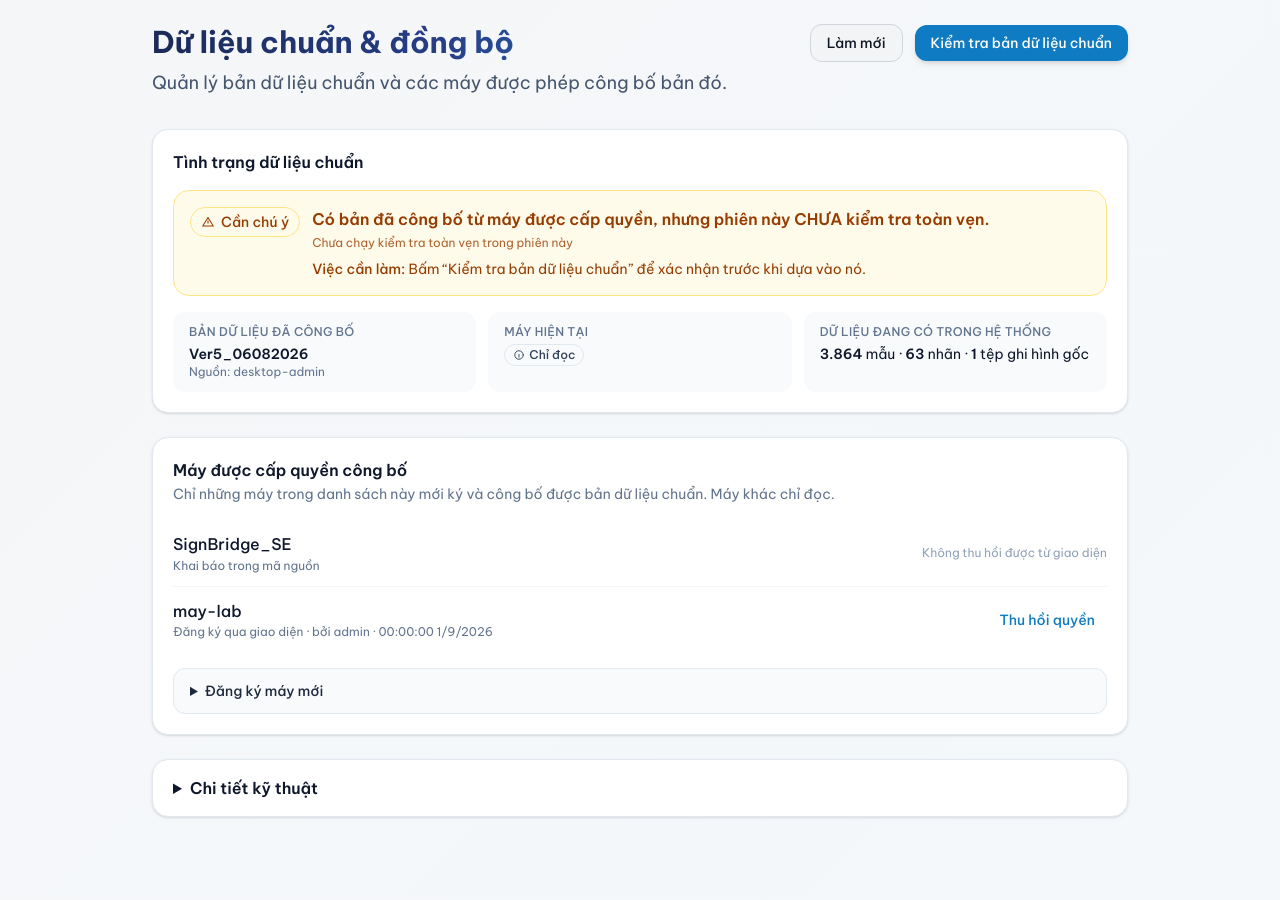
Test: SotAdminPage › bấm kiểm tra → đạt → kết luận đổi và có thời điểm kiểm tra
This screenshot has width=1280, height=900.
Expected: the message with test id "sot-conclusion" is shown, [173,190,1107,296]
Click the button "Kiểm tra bản dữ liệu chuẩn": click(1021, 43) [914,25,1128,61]
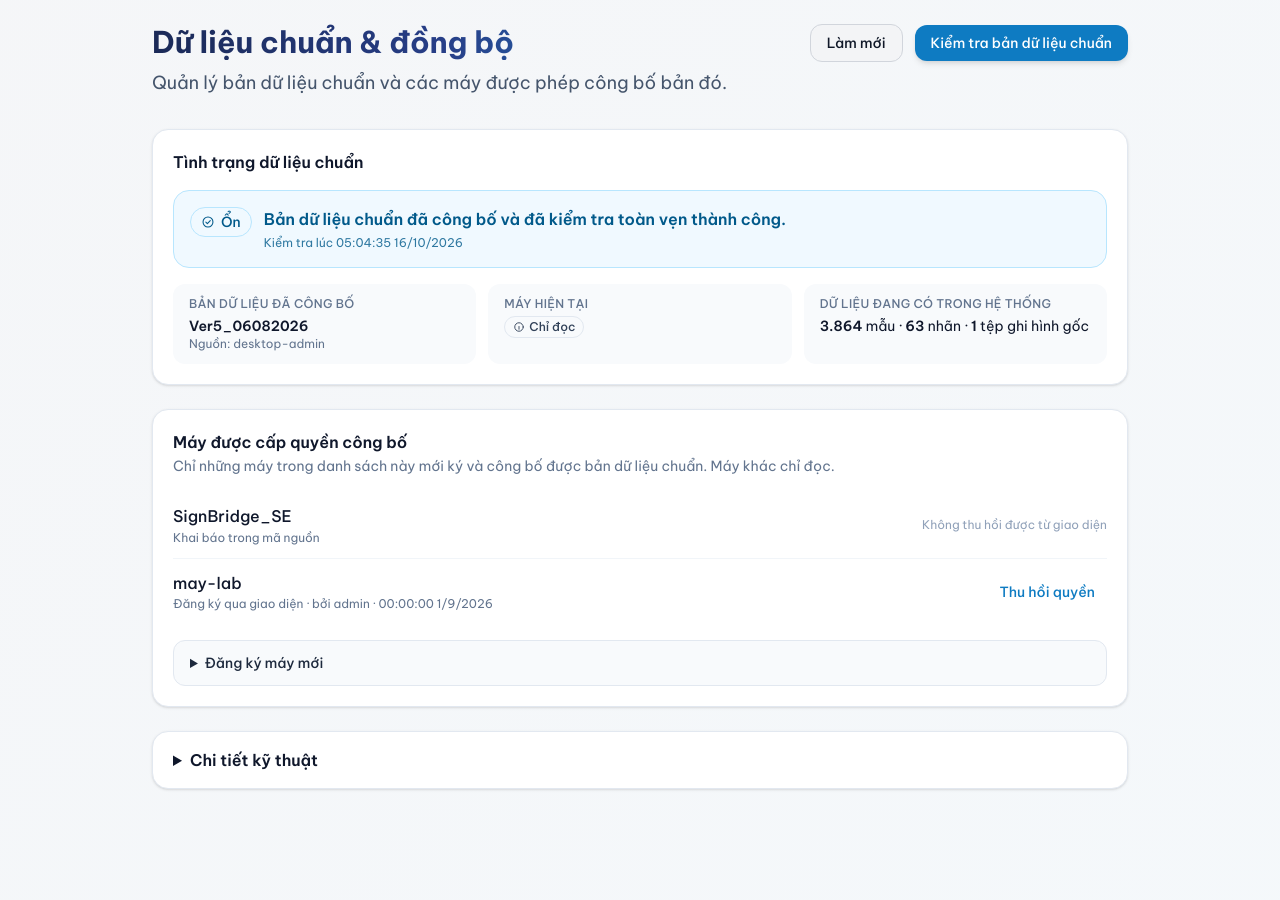
Expected: the message with test id "sot-conclusion" shows "Kiểm tra lúc", [264,235,463,250]
